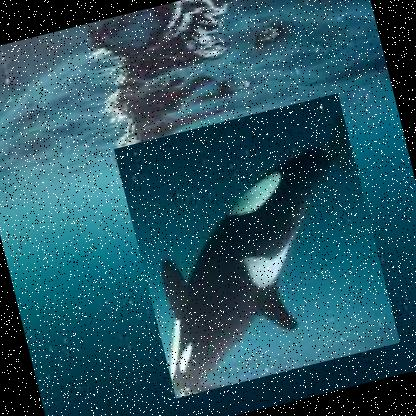killer_whale: (112, 93, 400, 400)
